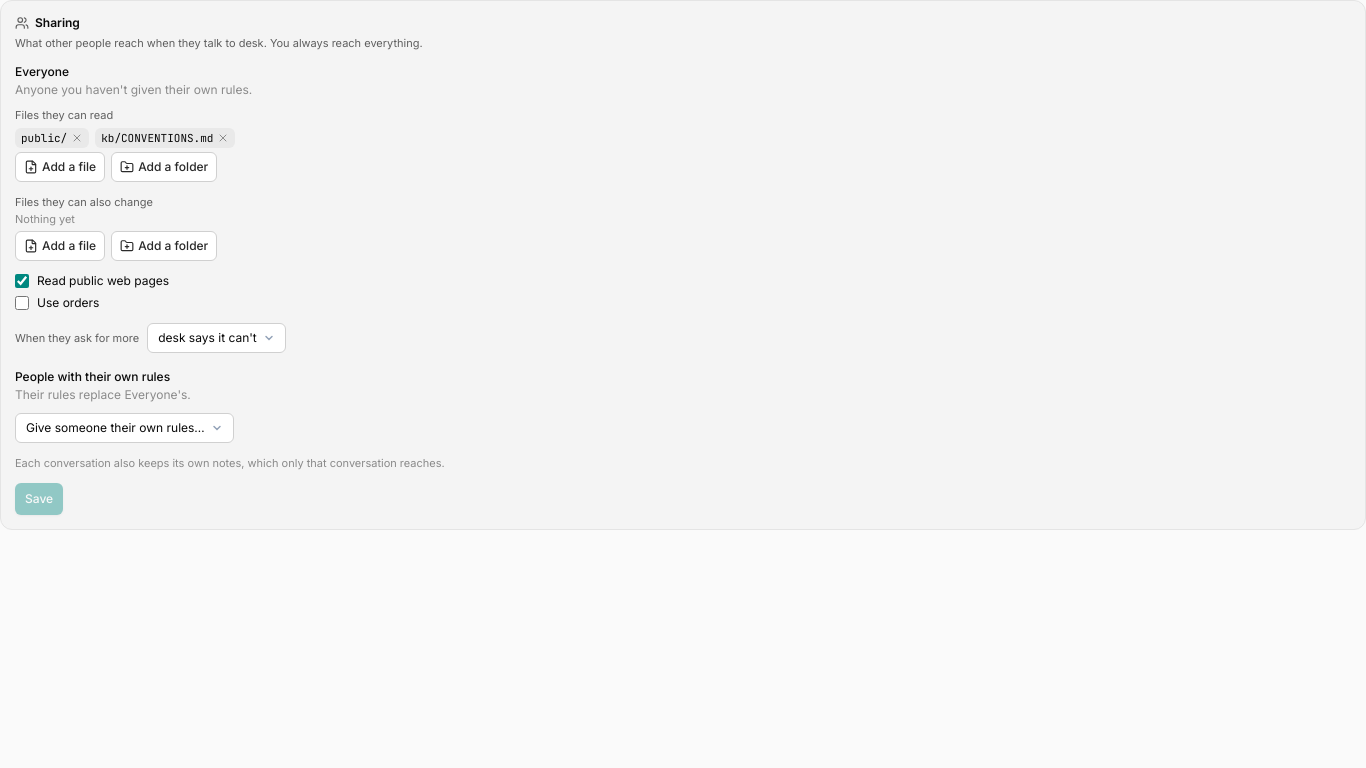
it: SharingPanel › says when a picked file is outside the peko's folder
Click the button with test id "sharing-everyone-read-file". click: (60, 167)
box: [15,152,105,182]
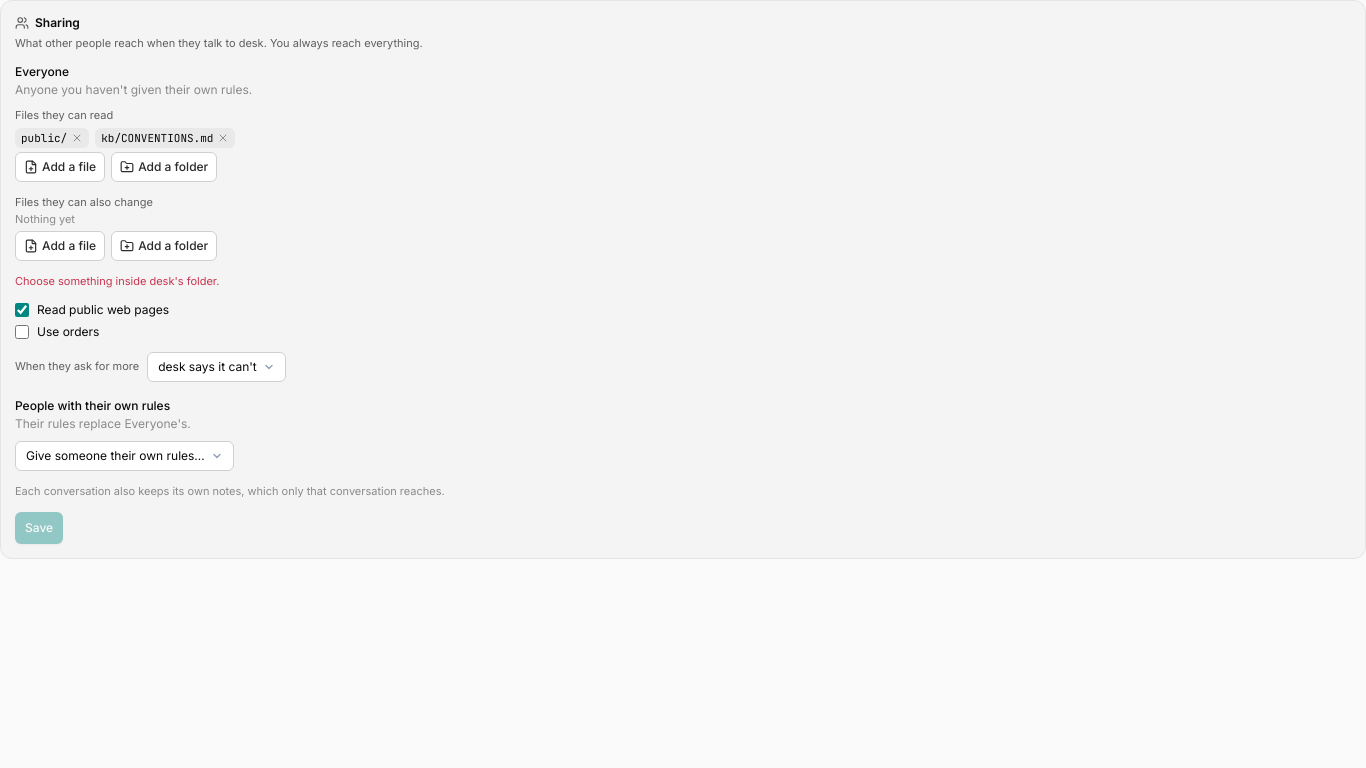
Expected: the button with test id "sharing-save" is disabled, [15,512,63,544]
Result: the text "Choose something inside desk's folder." is shown at [15,274,220,288]
